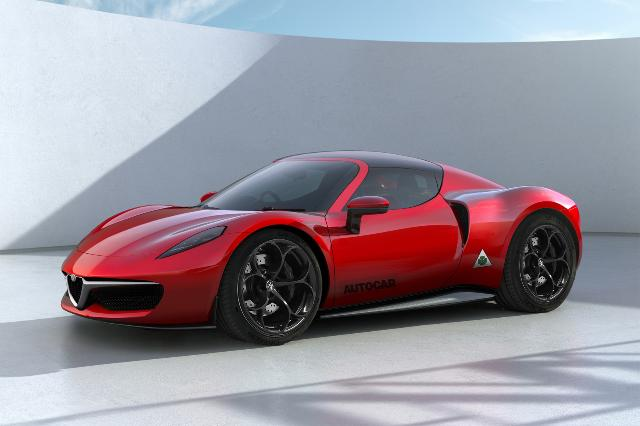alpha-romeo: (59, 149, 583, 347)
